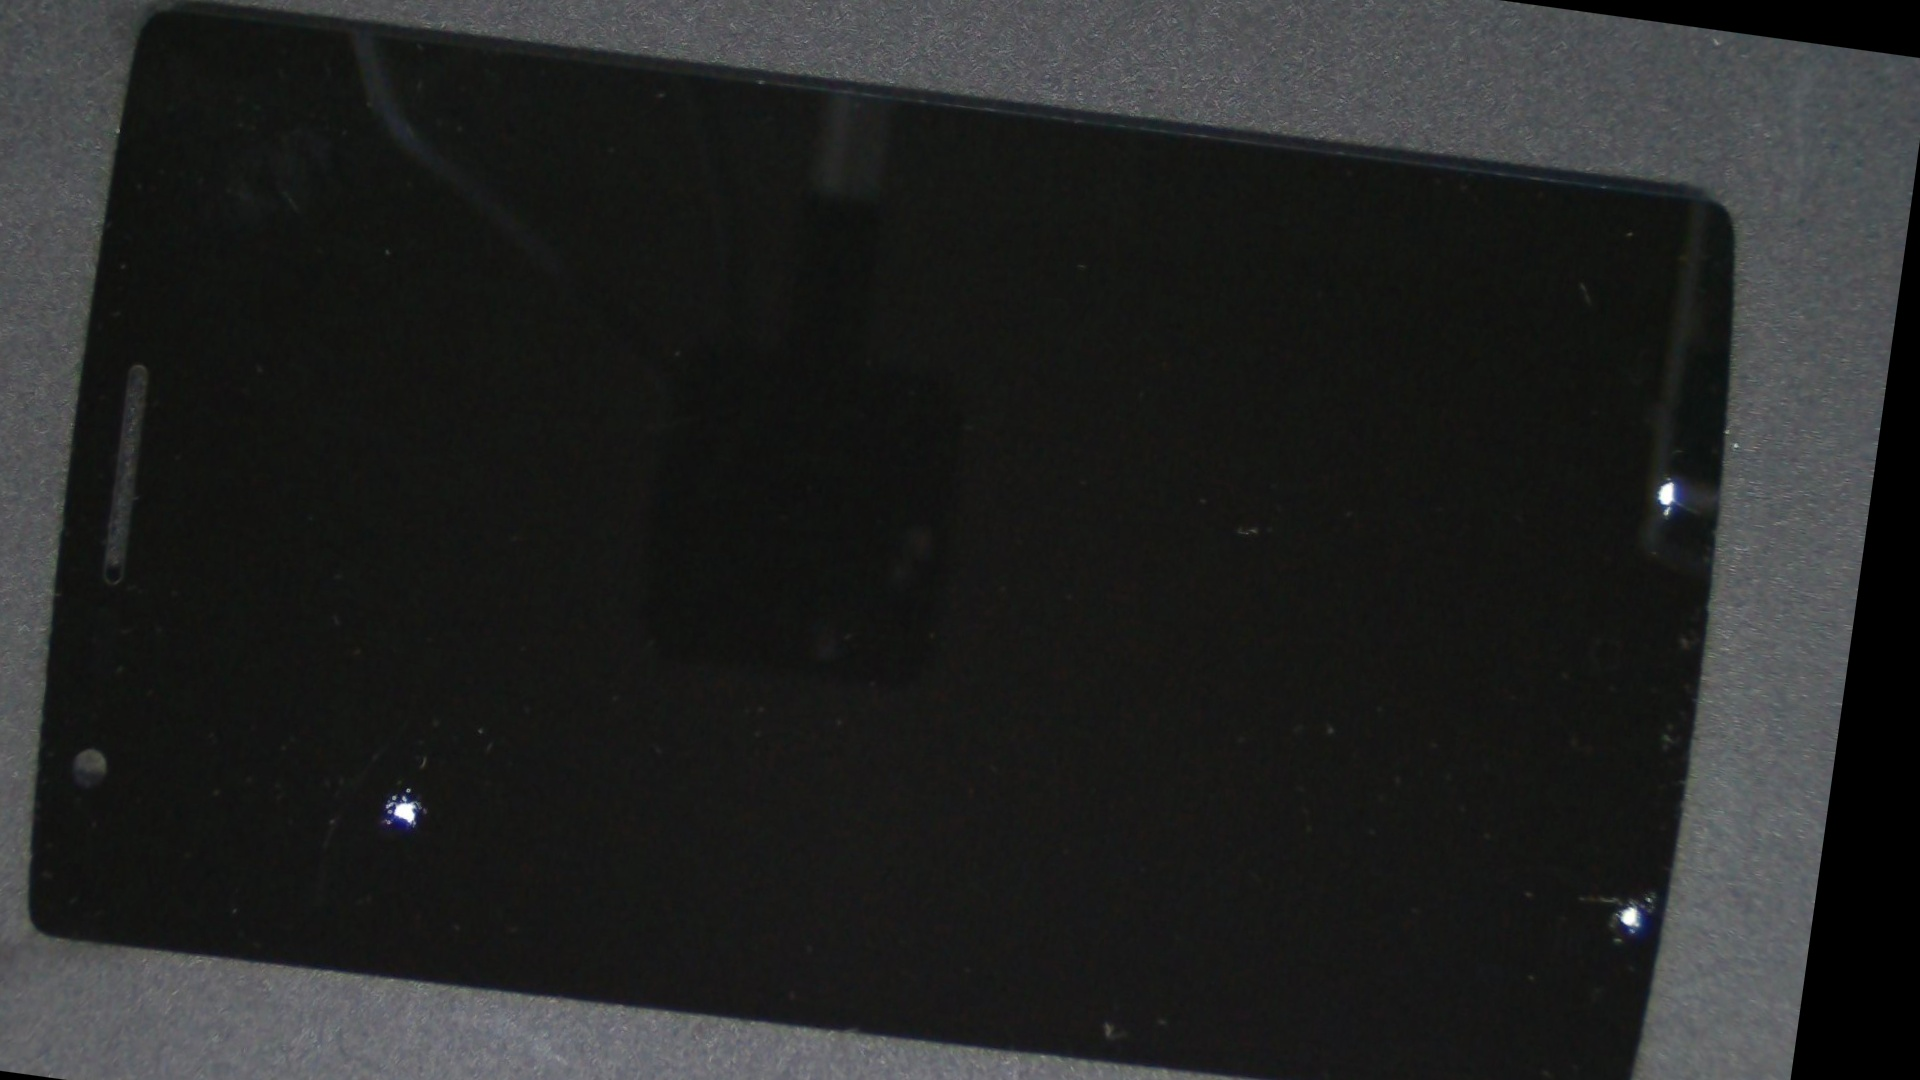oil: (703, 340, 1873, 1080), (764, 133, 1900, 727), (86, 289, 746, 1080)
